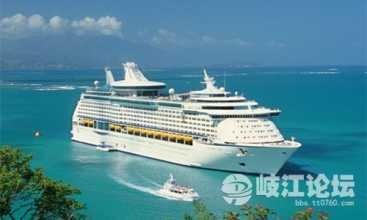youlun: (65, 60, 313, 177)
